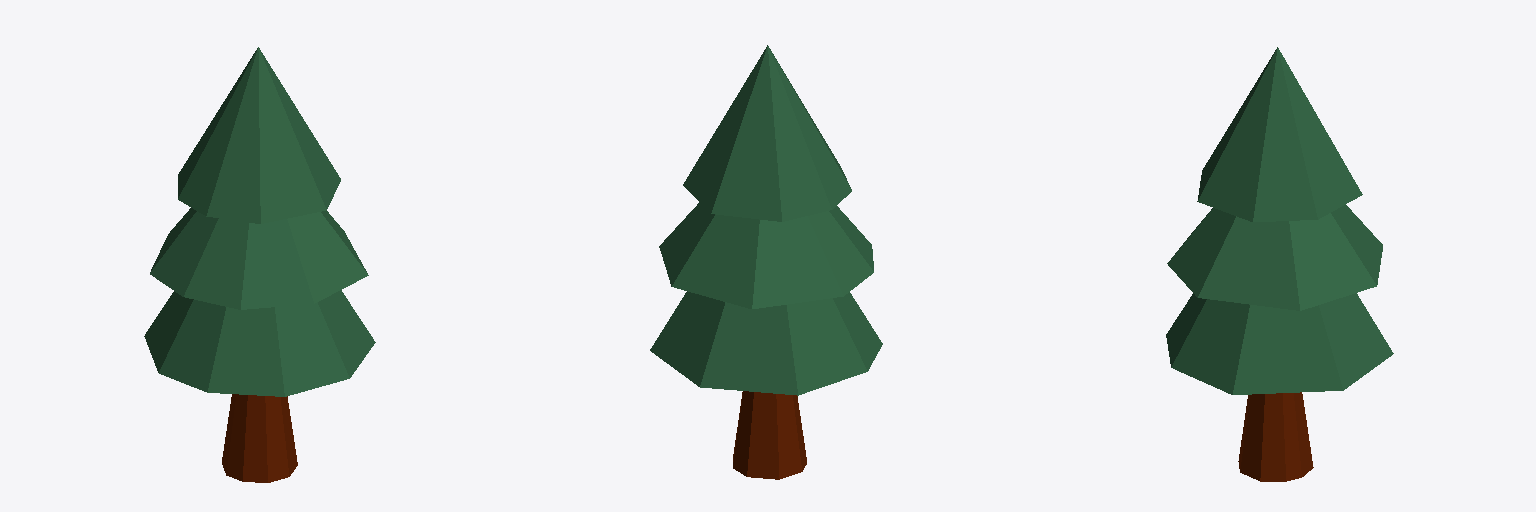
Rendered from lowtree2.obj.
3 renders of one model, left to right at view 1: azimuth 30°, elevation 25°; view 2: azimuth 150°, elevation 25°; view 3: azimuth 270°, elevation 25°, orthographic.
Parts seen in each view (by area): view 1: leafs_Cone.001, body_Cone; view 2: leafs_Cone.001, body_Cone; view 3: leafs_Cone.001, body_Cone.
Part boxes in pixels (x1,y1,x2,y2): leafs_Cone.001: (144,47,375,396); body_Cone: (222,394,297,482); leafs_Cone.001: (650,45,882,395); body_Cone: (733,391,806,479); leafs_Cone.001: (1166,47,1393,394); body_Cone: (1238,392,1313,481).
Bounding box in the file's own units: 2 × 4.06 × 2.